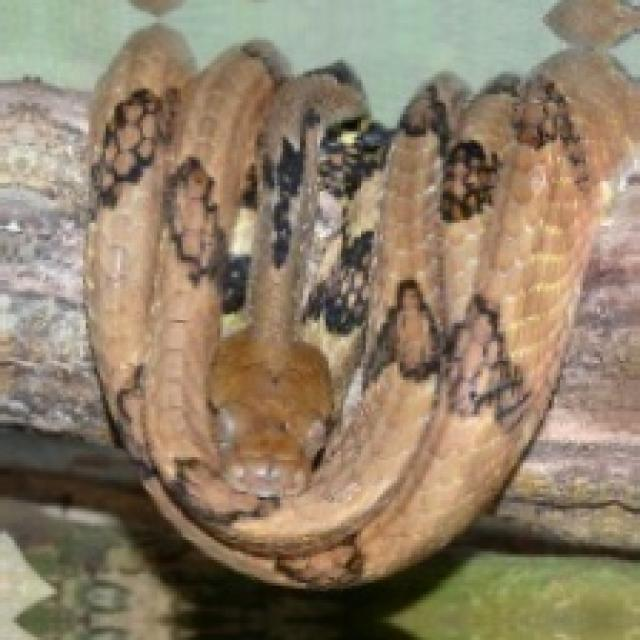dog-toothed cat snake: (86, 0, 637, 586)
